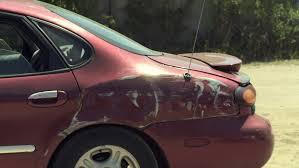quaterpanel-dent: (77, 57, 231, 128)
